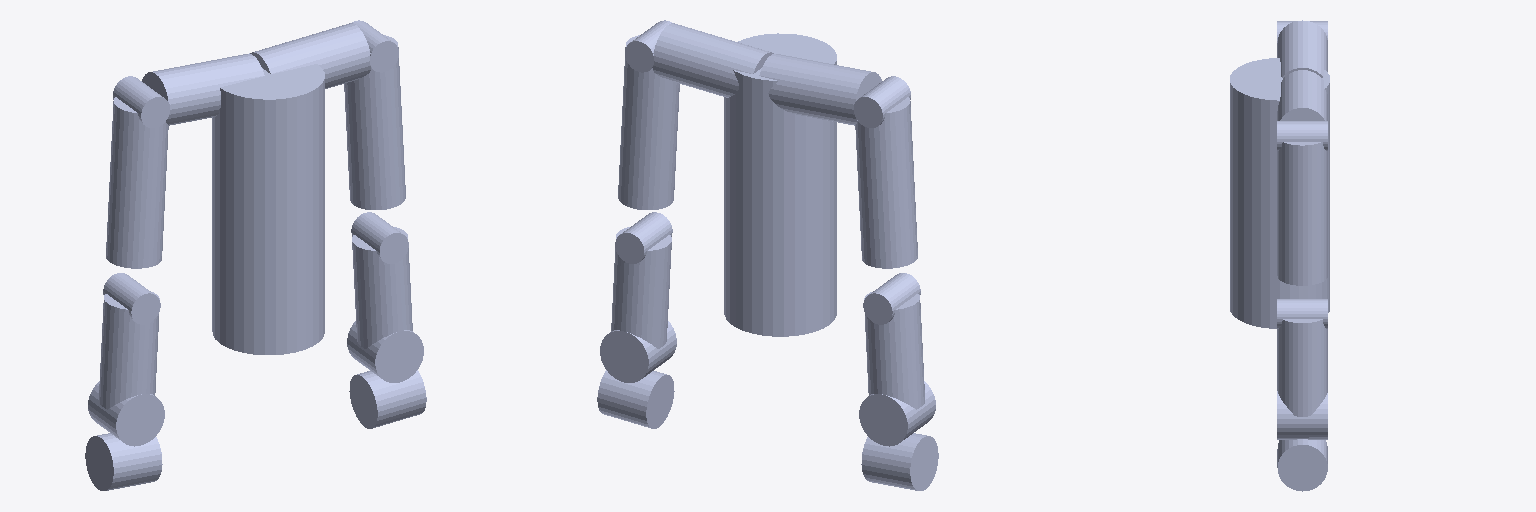
robot.urdf — dual_arm:
<?xml version="1.0" encoding="utf-8"?>
<!-- This URDF was automatically created by SolidWorks to URDF Exporter! Originally created by Stephen Brawner (brawner@gmail.com) 
     Commit Version: 1.6.0-1-g15f4949  Build Version: 1.6.7594.29634
     For more information, please see http://wiki.ros.org/sw_urdf_exporter -->
<robot
  name="dual_arm">
  <link
    name="base_link">
    <inertial>
      <origin
        xyz="0 0 0"
        rpy="0 0 0" />
      <mass
        value="0.29324" />
      <inertia
        ixx="0.00029756"
        ixy="-6.9587E-20"
        ixz="1.5542E-21"
        iyy="0.0017453"
        iyz="2.2537E-22"
        izz="0.002038" />
    </inertial>
    <visual>
      <origin
        xyz="0 0 0"
        rpy="0 0 0" />
      <geometry>
        <cylinder radius = "0.1" length = "0.5"  />
      </geometry>
      <material
        name="">
        <color
          rgba="0.79216 0.81961 0.93333 1" />
      </material>
    </visual>
  </link>
  <link
    name="llink1">
    <inertial>
      <origin
        xyz="0.041639 -9.5415E-08 0.078526"
        rpy="0 0 0" />
      <mass
        value="0.24987" />
      <inertia
        ixx="0.0006271"
        ixy="1.91E-10"
        ixz="-0.00020699"
        iyy="0.00072937"
        iyz="-5.8334E-10"
        izz="0.00053567" />
    </inertial>
    <visual>
      <origin
        xyz="0 0 0"
        rpy="0 0 0" />
      <geometry>
        <cylinder radius = "0.05" length = "0.2"  />
      </geometry>
      <material
        name="">
        <color
          rgba="0.79216 0.81961 0.93333 1" />
      </material>
    </visual>
  </link>
  <joint
    name="ljoint1"
    type="revolute">
    <origin
      xyz="-0.10762 0.045 0.22804"
      rpy="0 -1.51839 0" />
    <parent
      link="base_link" />
    <child
      link="llink1" />
    <axis
      xyz="0 0 1" />
    <limit
      lower="0"
      upper="0"
      effort="0"
      velocity="0" />
  </joint>
  <link
    name="llink2">
    <inertial>
      <origin
        xyz="-1.0311E-05 -0.065331 0.0058056"
        rpy="0 0 0" />
      <mass
        value="0.26286" />
      <inertia
        ixx="0.0021103"
        ixy="-9.1802E-09"
        ixz="-3.0245E-08"
        iyy="0.00073404"
        iyz="-0.00010005"
        izz="0.0021757" />
    </inertial>
    <visual>
      <origin
        xyz="0 0 0"
        rpy="0 0 0" />
      <geometry>
        <cylinder radius = "0.03" length = "0.1"  />
      </geometry>
      <material
        name="">
        <color
          rgba="0.79216 0.81961 0.93333 1" />
      </material>
    </visual>
  </link>
  <joint
    name="ljoint2"
    type="revolute">
    <origin
      xyz="0 0 0.1265"
      rpy="0 1.57079 1.57079 " />
    <parent
      link="llink1" />
    <child
      link="llink2" />
    <axis
      xyz="0 0 1" />
    <limit
      lower="0"
      upper="0"
      effort="0"
      velocity="0" />
  </joint>
  <link
    name="llink3">
    <inertial>
      <origin
        xyz="4.0057E-08 0.0035526 0.30728"
        rpy="0 0 0" />
      <mass
        value="0.16256" />
      <inertia
        ixx="0.0010114"
        ixy="5.8972E-10"
        ixz="-1.6559E-10"
        iyy="0.0010189"
        iyz="-4.2106E-05"
        izz="0.00031705" />
    </inertial>
    <visual>
      <origin
        xyz="0 0 0.15"
        rpy="0 0 0" />
      <geometry>
        <cylinder radius = "0.05" length = "0.3"  />
      </geometry>
      <material
        name="">
        <color
          rgba="0.79216 0.81961 0.93333 1" />
      </material>
    </visual>
  </link>
  <joint
    name="ljoint3"
    type="revolute">
    <origin
      xyz="0 0 0"
      rpy="-1.5708 0 0" />
    <parent
      link="llink2" />
    <child
      link="llink3" />
    <axis
      xyz="0 0 1" />
    <limit
      lower="0"
      upper="0"
      effort="0"
      velocity="0" />
  </joint>
  <link
    name="llink4">
    <inertial>
      <origin
        xyz="1.1177E-07 -0.074915 0.036559"
        rpy="0 0 0" />
      <mass
        value="0.19929" />
      <inertia
        ixx="0.00072501"
        ixy="2.5788E-10"
        ixz="-9.3888E-11"
        iyy="0.00027207"
        iyz="-0.00017365"
        izz="0.00066506" />
    </inertial>
    <visual>
      <origin
        xyz="0 0 0"
        rpy="0 0 0" />
      <geometry>
        <cylinder radius = "0.03" length = "0.1"  />
      </geometry>
      <material
        name="">
        <color
          rgba="0.79216 0.81961 0.93333 1" />
      </material>
    </visual>
  </link>
  <joint
    name="ljoint4"
    type="revolute">
    <origin
      xyz="0 0 0.38"
      rpy="1.5708 0 0" />
    <parent
      link="llink3" />
    <child
      link="llink4" />
    <axis
      xyz="0 0 1" />
    <limit
      lower="0"
      upper="0"
      effort="0"
      velocity="0" />
  </joint>
  <link
    name="llink5">
    <inertial>
      <origin
        xyz="2.1676E-06 0.0070445 0.19825"
        rpy="0 0 0" />
      <mass
        value="0.066574" />
      <inertia
        ixx="0.00013147"
        ixy="-2.7479E-09"
        ixz="1.8702E-09"
        iyy="0.00013187"
        iyz="-7.9202E-06"
        izz="0.0001047" />
    </inertial>
    <visual>
      <origin
        xyz="0 0 -0.1"
        rpy="0 0 0" />
      <geometry>
        <cylinder radius = "0.05" length = "0.2"  />
      </geometry>
      <material
        name="">
        <color
          rgba="0.79216 0.81961 0.93333 1" />
      </material>
    </visual>
  </link>
  <joint
    name="ljoint5"
    type="revolute">
    <origin
      xyz="0 0 0"
      rpy="1.5708 0 0" />
    <parent
      link="llink4" />
    <child
      link="llink5" />
    <axis
      xyz="0 0 -1" />
    <limit
      lower="0"
      upper="0"
      effort="0"
      velocity="0" />
  </joint>
  <link
    name="llink6">
    <inertial>
      <origin
        xyz="-0.0039441 -0.068911 0.030139"
        rpy="0 0 0" />
      <mass
        value="0.10811" />
      <inertia
        ixx="0.00019728"
        ixy="6.4772E-12"
        ixz="-3.1094E-06"
        iyy="0.00010812"
        iyz="-9.3227E-07"
        izz="0.00020592" />
    </inertial>
    <visual>
      <origin
        xyz="0 0 0"
        rpy="0 0 0" />
      <geometry>
        <cylinder radius = "0.05" length = "0.1"  />
      </geometry>
      <material
        name="">
        <color
          rgba="0.79216 0.81961 0.93333 1" />
      </material>
    </visual>
  </link>
  <joint
    name="ljoint6"
    type="revolute">
    <origin
      xyz="0 0 -0.215"
      rpy="-1.5708 1.5708 0" />
    <parent
      link="llink5" />
    <child
      link="llink6" />
    <axis
      xyz="0 0 1" />
    <limit
      lower="0"
      upper="0"
      effort="0"
      velocity="0" />
  </joint>
  <link
    name="llink7">
    <inertial>
      <origin
        xyz="3.1729E-09 -0.028673 0.033919"
        rpy="0 0 0" />
      <mass
        value="0.044605" />
      <inertia
        ixx="5.762E-05"
        ixy="6.3373E-12"
        ixz="2.7464E-12"
        iyy="3.3691E-05"
        iyz="-1.6616E-05"
        izz="5.028E-05" />
    </inertial>
    <visual>
      <origin
        xyz="0 0 0"
        rpy="0 0 0" />
      <geometry>
        <cylinder radius = "0.05" length = "0.1"  />
      </geometry>
      <material
        name="">
        <color
          rgba="0.79216 0.81961 0.93333 1" />
      </material>
    </visual>
  </link>
  <joint
    name="ljoint7"
    type="revolute">
    <origin
      xyz="0.095 0 0"
      rpy="1.5708 1.5708 0" />
    <parent
      link="llink6" />
    <child
      link="llink7" />
    <axis
      xyz="0 0 1" />
    <limit
      lower="0"
      upper="0"
      effort="0"
      velocity="0" />
  </joint>
  <link
    name="rlink1">
    <inertial>
      <origin
        xyz="0.041639 -9.5415E-08 0.078526"
        rpy="0 0 0" />
      <mass
        value="0.24987" />
      <inertia
        ixx="0.0006271"
        ixy="1.91E-10"
        ixz="-0.00020699"
        iyy="0.00072937"
        iyz="-5.8334E-10"
        izz="0.00053567" />
    </inertial>
    <visual>
      <origin
        xyz="0 0 0"
        rpy="0 0 0" />
      <geometry>
        <cylinder radius = "0.05" length = "0.2"  />
      </geometry>
      <material
        name="">
        <color
          rgba="0.79216 0.81961 0.93333 1" />
      </material>
    </visual>
  </link>
  <joint
    name="rjoint1"
    type="revolute">
    <origin
      xyz="0.10762 0.045 0.22804"
      rpy="0 -1.6232 0" />
    <parent
      link="base_link" />
    <child
      link="rlink1" />
    <axis
      xyz="0 0 -1" />
    <limit
      lower="0"
      upper="0"
      effort="0"
      velocity="0" />
  </joint>
  <link
    name="rlink2">
    <inertial>
      <origin
        xyz="0 0 0"
        rpy="0 0 0" />
      <mass
        value="0.26286" />
      <inertia
        ixx="0.0021103"
        ixy="-9.1802E-09"
        ixz="-3.0245E-08"
        iyy="0.00073404"
        iyz="-0.00010005"
        izz="0.0021757" />
    </inertial>
    <visual>
      <origin
        xyz="0 0 0"
        rpy="0 0 0" />
      <geometry>
        <cylinder radius = "0.03" length = "0.1"  />
      </geometry>
      <material
        name="">
        <color
          rgba="0.79216 0.81961 0.93333 1" />
      </material>
    </visual>
  </link>
  <joint
    name="rjoint2"
    type="revolute">
    <origin
      xyz="0 0 -0.1265"
      rpy="0 1.57079 1.57079 " />
    <parent
      link="rlink1" />
    <child
      link="rlink2" />
    <axis
      xyz="0 0 1" />
    <limit
      lower="0"
      upper="0"
      effort="0"
      velocity="0" />
  </joint>
  <link
    name="rlink3">
    <inertial>
      <origin
        xyz="4.0057E-08 0.0035526 0.30728"
        rpy="0 0 0" />
      <mass
        value="0.16256" />
      <inertia
        ixx="0.0010114"
        ixy="5.8972E-10"
        ixz="-1.6559E-10"
        iyy="0.0010189"
        iyz="-4.2106E-05"
        izz="0.00031705" />
    </inertial>
    <visual>
      <origin
        xyz="0 0 0.15"
        rpy="0 0 0" />
      <geometry>
        <cylinder radius = "0.05" length = "0.3"  />
      </geometry>
      <material
        name="">
        <color
          rgba="0.79216 0.81961 0.93333 1" />
      </material>
    </visual>
  </link>
  <joint
    name="rjoint3"
    type="revolute">
    <origin
      xyz="0 0 0"
      rpy="-1.5708 0 0" />
    <parent
      link="rlink2" />
    <child
      link="rlink3" />
    <axis
      xyz="0 0 1" />
    <limit
      lower="0"
      upper="0"
      effort="0"
      velocity="0" />
  </joint>
  <link
    name="rlink4">
    <inertial>
      <origin
        xyz="1.1177E-07 -0.074915 0.036559"
        rpy="0 0 0" />
      <mass
        value="0.19929" />
      <inertia
        ixx="0.00072501"
        ixy="2.5788E-10"
        ixz="-9.3888E-11"
        iyy="0.00027207"
        iyz="-0.00017365"
        izz="0.00066506" />
    </inertial>
    <visual>
      <origin
        xyz="0 0 0"
        rpy="0 0 0" />
      <geometry>
        <cylinder radius = "0.03" length = "0.1"  />
      </geometry>
      <material
        name="">
        <color
          rgba="0.79216 0.81961 0.93333 1" />
      </material>
    </visual>
  </link>
  <joint
    name="rjoint4"
    type="revolute">
    <origin
      xyz="0 0 0.38"
      rpy="1.5708 0 0" />
    <parent
      link="rlink3" />
    <child
      link="rlink4" />
    <axis
      xyz="0 0 1" />
    <limit
      lower="0"
      upper="0"
      effort="0"
      velocity="0" />
  </joint>
  <link
    name="rlink5">
    <inertial>
      <origin
        xyz="2.1676E-06 0.0070445 0.19825"
        rpy="0 0 0" />
      <mass
        value="0.066574" />
      <inertia
        ixx="0.00013147"
        ixy="-2.7479E-09"
        ixz="1.8702E-09"
        iyy="0.00013187"
        iyz="-7.9202E-06"
        izz="0.0001047" />
    </inertial>
    <visual>
      <origin
        xyz="0 0 -0.1"
        rpy="0 0 0" />
      <geometry>
        <cylinder radius = "0.05" length = "0.2"  />
      </geometry>
      <material
        name="">
        <color
          rgba="0.79216 0.81961 0.93333 1" />
      </material>
    </visual>
  </link>
  <joint
    name="rjoint5"
    type="revolute">
    <origin
      xyz="0 0 0"
      rpy="1.5708 0 0" />
    <parent
      link="rlink4" />
    <child
      link="rlink5" />
    <axis
      xyz="0 0 -1" />
    <limit
      lower="0"
      upper="0"
      effort="0"
      velocity="0" />
  </joint>
  <link
    name="rlink6">
    <inertial>
      <origin
        xyz="-0.0039441 -0.068911 0.030139"
        rpy="0 0 0" />
      <mass
        value="0.10811" />
      <inertia
        ixx="0.00019728"
        ixy="6.4772E-12"
        ixz="-3.1094E-06"
        iyy="0.00010812"
        iyz="-9.3227E-07"
        izz="0.00020592" />
    </inertial>
    <visual>
      <origin
        xyz="0 0 0"
        rpy="0 0 0" />
      <geometry>
        <cylinder radius = "0.05" length = "0.1"  />
      </geometry>
      <material
        name="">
        <color
          rgba="0.79216 0.81961 0.93333 1" />
      </material>
    </visual>
  </link>
  <joint
    name="rjoint6"
    type="revolute">
    <origin
      xyz="0 0 -0.215"
      rpy="-1.5708 1.5708 0" />
    <parent
      link="rlink5" />
    <child
      link="rlink6" />
    <axis
      xyz="0 0 1" />
    <limit
      lower="0"
      upper="0"
      effort="0"
      velocity="0" />
  </joint>
  <link
    name="rlink7">
    <inertial>
      <origin
        xyz="3.1729E-09 -0.028673 0.033919"
        rpy="0 0 0" />
      <mass
        value="0.044605" />
      <inertia
        ixx="5.762E-05"
        ixy="6.3373E-12"
        ixz="2.7464E-12"
        iyy="3.3691E-05"
        iyz="-1.6616E-05"
        izz="5.028E-05" />
    </inertial>
    <visual>
      <origin
        xyz="0 0 0"
        rpy="0 0 0" />
      <geometry>
        <cylinder radius = "0.05" length = "0.1"  />
      </geometry>
      <material
        name="">
        <color
          rgba="0.79216 0.81961 0.93333 1" />
      </material>
    </visual>
  </link>
  <joint
    name="rjoint7"
    type="revolute">
    <origin
      xyz="0.095 0 0"
      rpy="1.5708 1.5708 0" />
    <parent
      link="rlink6" />
    <child
      link="rlink7" />
    <axis
      xyz="0 0 1" />
    <limit
      lower="0"
      upper="0"
      effort="0"
      velocity="0" />
  </joint>
</robot>

--- Facts derived from the render (not from the file) ---
Views: 3 orthographic renders of the robot side by side, from view 1: azimuth 30°, elevation 25°; view 2: azimuth 150°, elevation 25°; view 3: azimuth 270°, elevation 25°.
Robot: dual_arm — 15 links, 14 joints (14 revolute); root link base_link; default pose: every joint at zero.
Visible links, largest first — view 1: base_link, llink3, rlink3, llink5, rlink5, llink1, rlink1, llink7, rlink7, llink6, rlink6, rlink4 (+3 smaller); view 2: base_link, llink3, rlink3, llink1, rlink1, llink5, rlink5, llink7, rlink7, llink6, rlink6, rlink4 (+3 smaller); view 3: base_link, rlink3, rlink5, llink1, rlink7, rlink1, rlink6, rlink2, rlink4.
Link boxes in pixels (bbox=[...]): base_link: bbox=[212, 53, 324, 354]; llink3: bbox=[106, 97, 168, 268]; rlink3: bbox=[344, 35, 405, 209]; llink5: bbox=[99, 292, 159, 409]; rlink5: bbox=[352, 227, 412, 348]; llink1: bbox=[142, 54, 264, 125]; rlink1: bbox=[250, 23, 370, 88]; llink7: bbox=[85, 433, 162, 490]; rlink7: bbox=[349, 370, 426, 428]; llink6: bbox=[88, 381, 164, 446]; rlink6: bbox=[347, 321, 423, 382]; rlink4: bbox=[351, 212, 408, 263]; base_link: bbox=[724, 33, 836, 336]; llink3: bbox=[855, 97, 917, 268]; rlink3: bbox=[618, 35, 679, 209]; llink1: bbox=[759, 54, 881, 125]; rlink1: bbox=[653, 23, 773, 97]; llink5: bbox=[864, 292, 924, 409]; rlink5: bbox=[611, 227, 671, 348]; llink7: bbox=[861, 433, 938, 490]; rlink7: bbox=[597, 370, 674, 428]; llink6: bbox=[859, 381, 935, 446]; rlink6: bbox=[600, 321, 676, 382]; rlink4: bbox=[615, 212, 672, 263]; base_link: bbox=[1230, 58, 1329, 328]; rlink3: bbox=[1277, 142, 1327, 285]; rlink5: bbox=[1277, 319, 1327, 416]; llink1: bbox=[1277, 20, 1327, 77]; rlink7: bbox=[1277, 439, 1327, 491]; rlink1: bbox=[1277, 70, 1327, 120]; rlink6: bbox=[1277, 391, 1327, 439]; rlink2: bbox=[1277, 121, 1327, 150]; rlink4: bbox=[1277, 299, 1327, 328].
Bounding box of the posed robot: 0.6453 × 0.2 × 0.7901 m (x, y, z).
Geometry: primitives only (box / cylinder / sphere), no mesh files.
